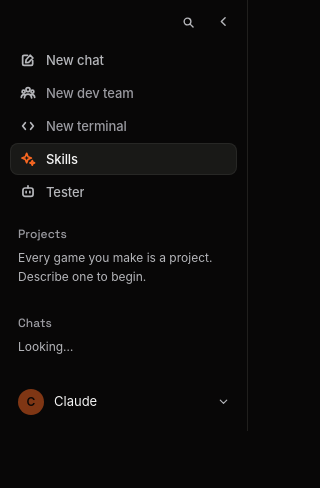
Scenario: the account row › opens a menu with Settings
The width and height of the screenshot is (320, 488).
Click the button with aria-label "Account: Claude" at (124, 402), box [10,383,237,421]
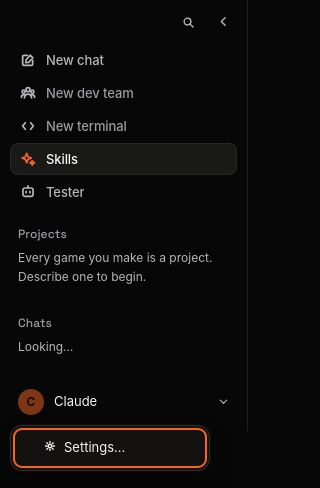
Check: the menu item "Settings…" is shown, box [16,431,204,465]
